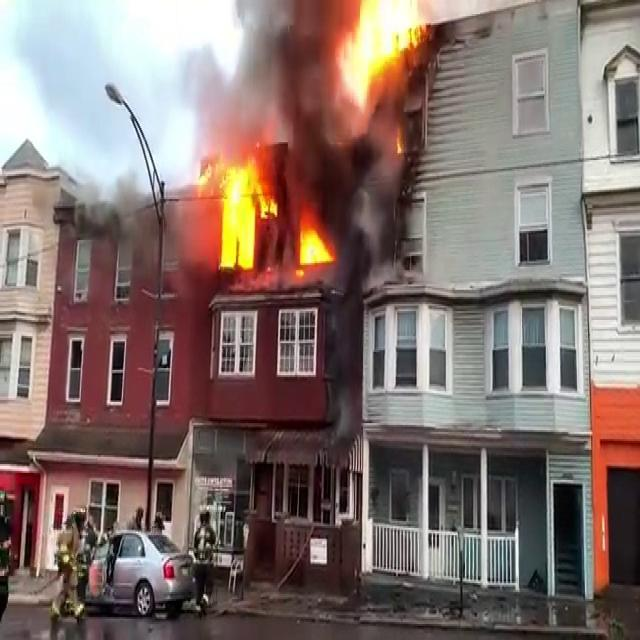Fire: (194, 144, 278, 276), (338, 0, 431, 107), (294, 210, 336, 278)
Smoke: (180, 0, 424, 256)
